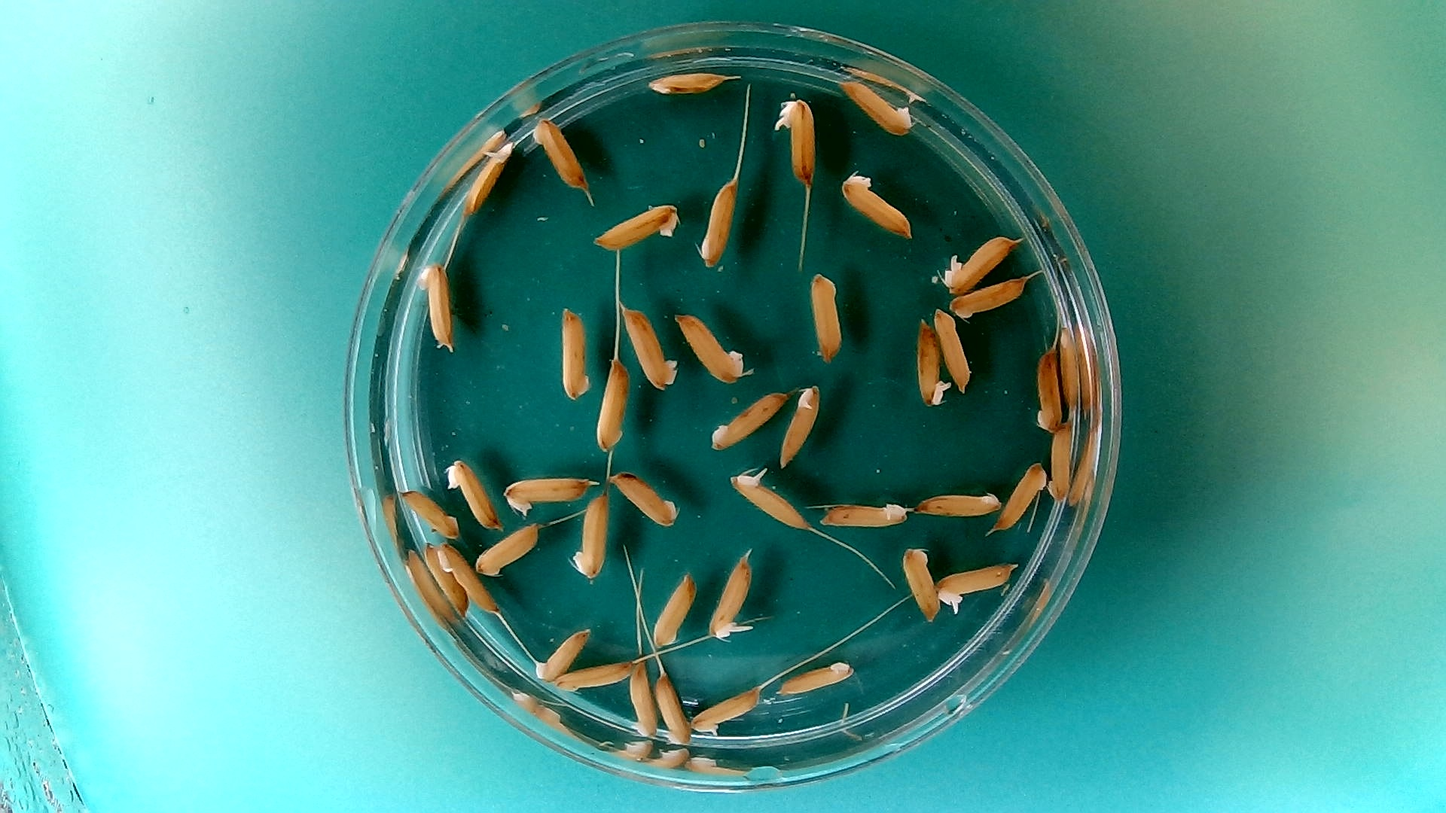no: (704, 385, 793, 453), (670, 308, 748, 385), (836, 169, 917, 242), (620, 300, 681, 391), (589, 197, 683, 253), (835, 74, 917, 136), (526, 111, 587, 193), (438, 537, 500, 614), (501, 469, 596, 518), (442, 453, 501, 531), (608, 466, 680, 528), (694, 175, 740, 271), (992, 458, 1050, 532), (413, 255, 456, 352), (648, 567, 697, 648), (569, 489, 611, 582), (949, 273, 1030, 321), (473, 521, 541, 578), (932, 306, 973, 400), (531, 624, 593, 684), (807, 267, 845, 364), (423, 541, 469, 621), (593, 353, 630, 452), (774, 657, 858, 699), (557, 303, 592, 402), (398, 485, 461, 540), (899, 542, 940, 624), (818, 495, 911, 531), (551, 656, 636, 695), (651, 668, 692, 748), (917, 486, 1002, 520), (1032, 345, 1064, 433), (645, 66, 730, 99), (1046, 418, 1075, 506)
yes: (728, 463, 812, 532), (936, 230, 1022, 294), (934, 556, 1019, 613), (706, 547, 756, 642), (460, 137, 517, 218), (773, 92, 820, 187), (688, 683, 766, 735), (777, 379, 822, 469), (911, 315, 950, 409), (624, 657, 658, 739)
